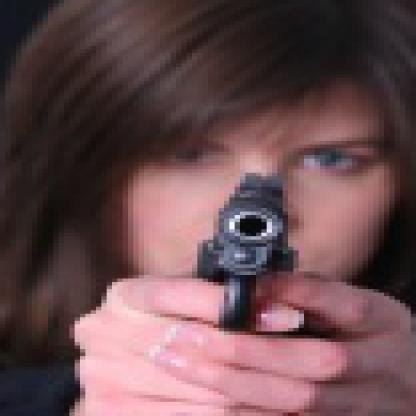gun: (176, 169, 299, 342)
